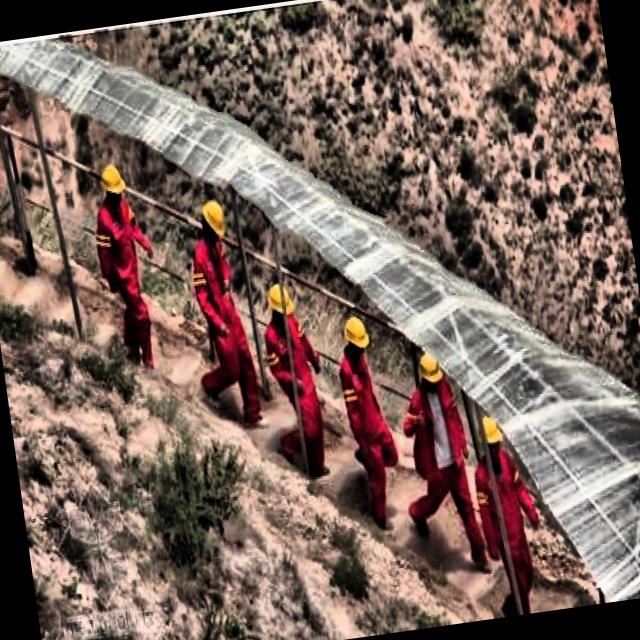helmet: (474, 410, 506, 464), (198, 197, 230, 243), (263, 278, 298, 320), (97, 164, 128, 208), (342, 314, 372, 359), (416, 352, 446, 395)
